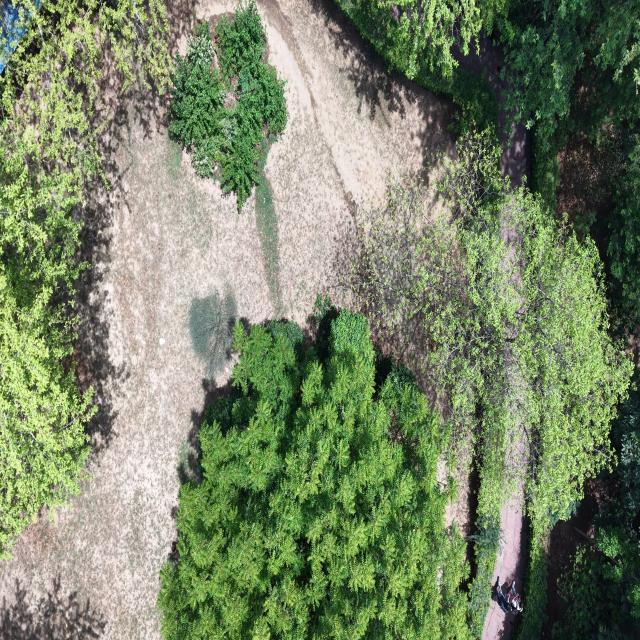DRY_AREA: (0, 0, 452, 639), (258, 0, 452, 210), (482, 398, 528, 639), (482, 399, 528, 639), (482, 407, 528, 639), (540, 478, 601, 639), (482, 422, 527, 639), (482, 470, 526, 639), (483, 470, 526, 639), (482, 481, 526, 639), (482, 482, 526, 639), (483, 486, 526, 639), (438, 442, 475, 558), (455, 32, 505, 106), (493, 483, 526, 593), (493, 490, 526, 594)
PATHWAYS: (494, 487, 526, 593)
VEGETATION_TREE: (159, 0, 639, 638), (357, 0, 639, 637), (354, 132, 632, 635), (355, 134, 632, 517), (159, 308, 467, 639), (338, 0, 639, 331), (0, 0, 171, 554), (0, 0, 169, 557), (351, 178, 506, 637), (351, 131, 517, 428), (519, 208, 632, 637), (497, 0, 639, 334), (496, 0, 639, 327), (506, 195, 632, 525), (0, 0, 170, 212), (0, 201, 95, 556), (496, 0, 639, 202), (170, 0, 287, 210), (337, 0, 507, 136), (554, 389, 639, 639), (557, 124, 639, 333), (338, 0, 508, 82), (593, 127, 639, 326), (255, 139, 281, 309), (189, 289, 237, 379)
